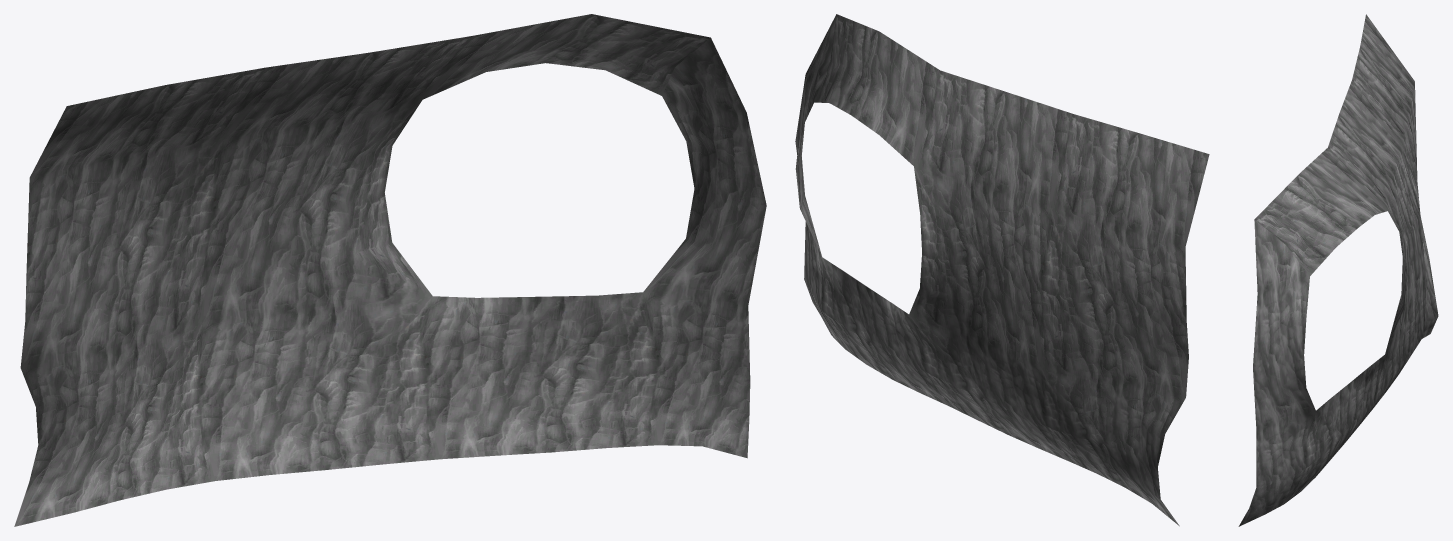
File: SWORDLIGHT20_PS-AREA04_21.fbx
The picture shows the model from 3 angles, left to right: view 1: azimuth 30°, elevation 25°; view 2: azimuth 150°, elevation 25°; view 3: azimuth 270°, elevation 25°; orthographic projection. The views are drawn at different scales.
Visible parts, largest first — view 1: SWORDLIGHT20_PS-AREA04_21; view 2: SWORDLIGHT20_PS-AREA04_21; view 3: SWORDLIGHT20_PS-AREA04_21.
Boxes of the visible parts, x1,y1,x2,y2 form: SWORDLIGHT20_PS-AREA04_21: (14, 14, 766, 526); SWORDLIGHT20_PS-AREA04_21: (795, 14, 1209, 526); SWORDLIGHT20_PS-AREA04_21: (1238, 14, 1438, 526).
Size of the model in its own units: 146292 by 102764 by 56567.
Materials: 1 (1 with a texture image).
